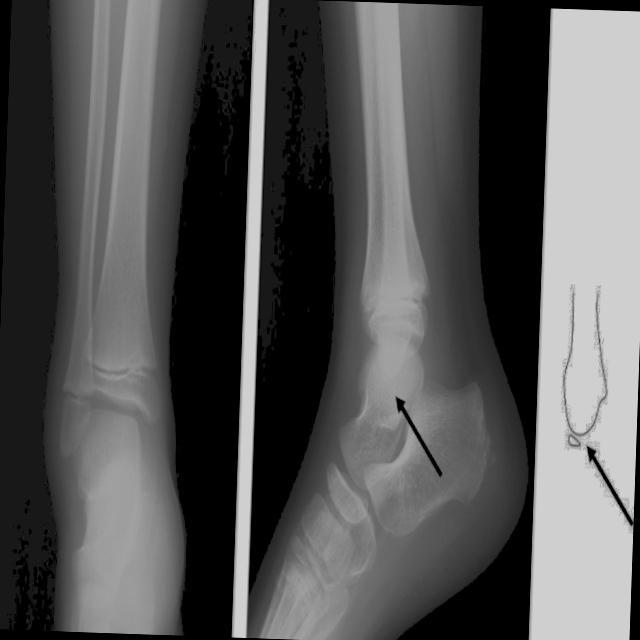Avlusion Fracture: (546, 424, 586, 456)
